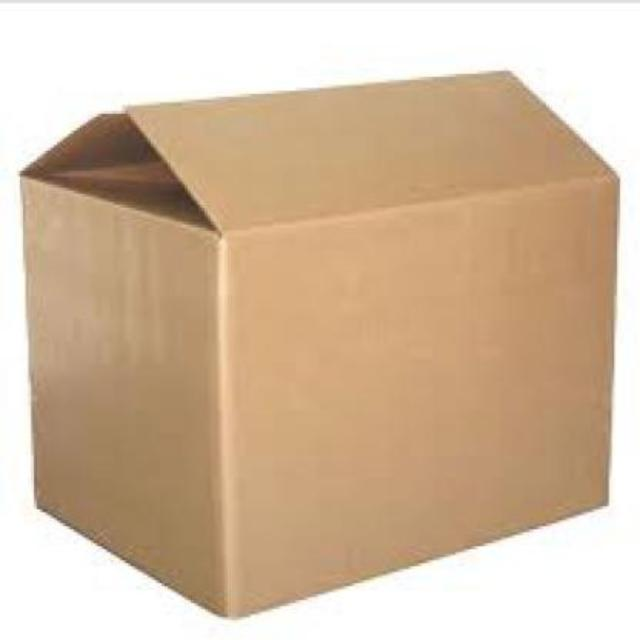cardboard_box: (25, 78, 640, 618)
